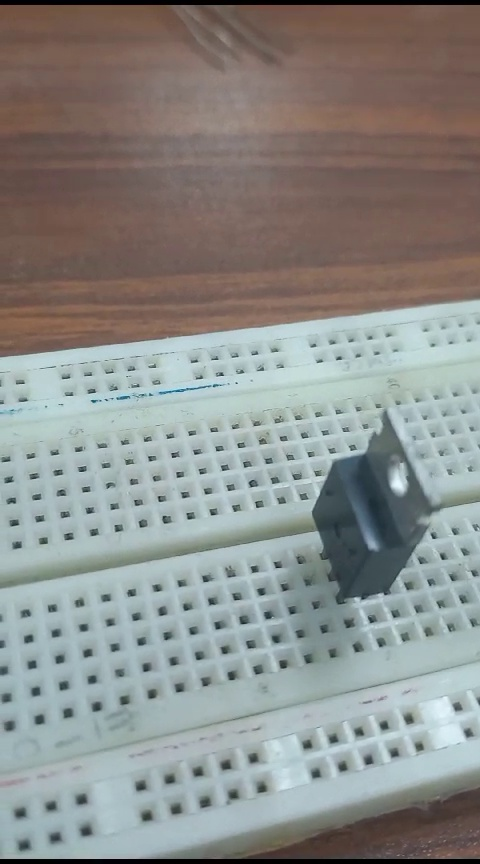voltage regulator: (302, 412, 433, 625)
